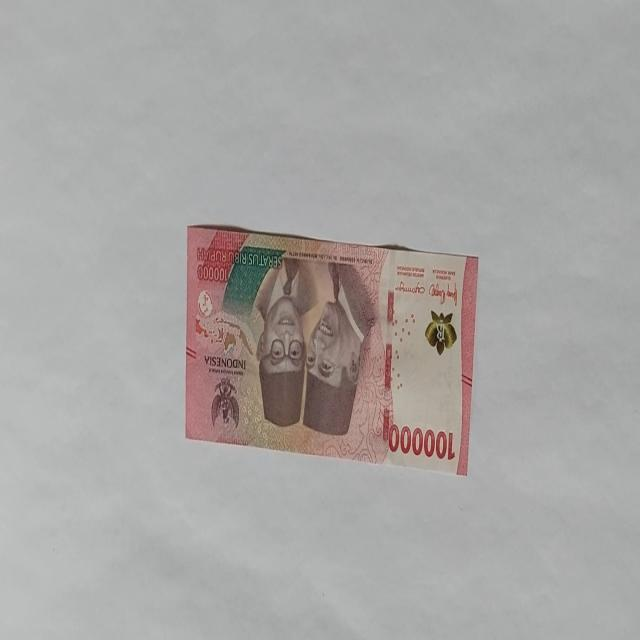seratus ribu rupiah: (184, 222, 478, 475)
